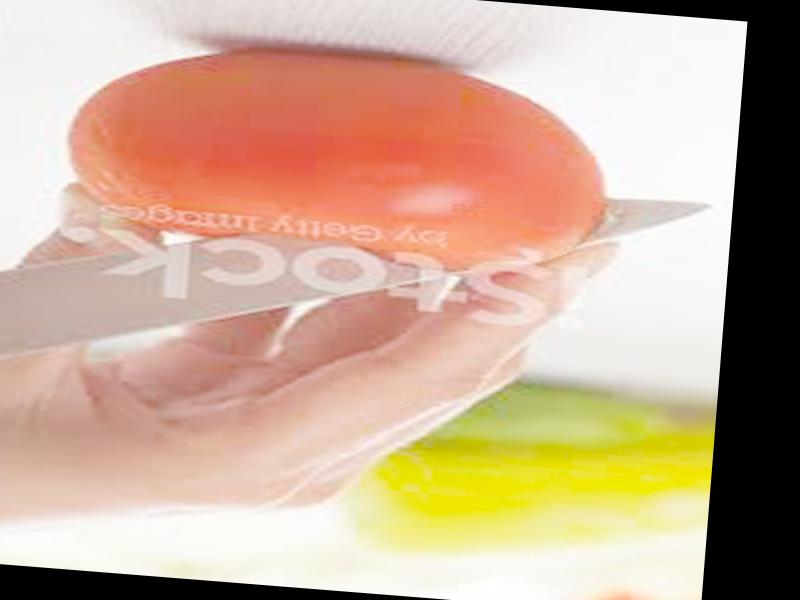Tomato: (54, 28, 615, 280)
